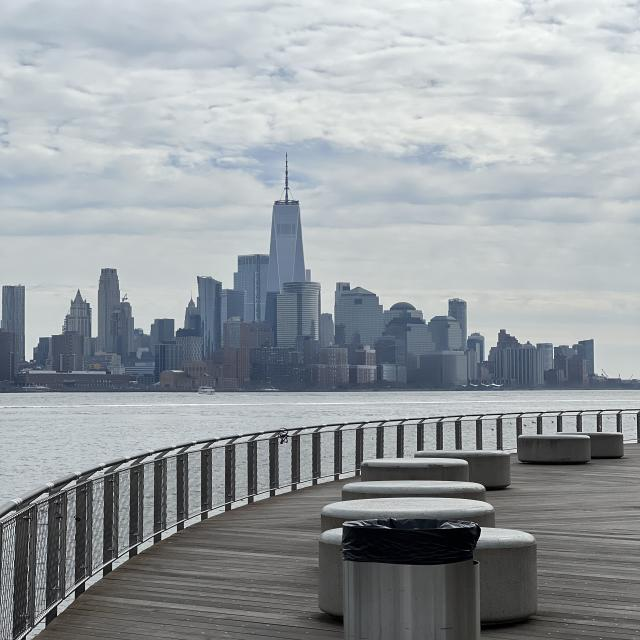WTC: (266, 151, 307, 282)
